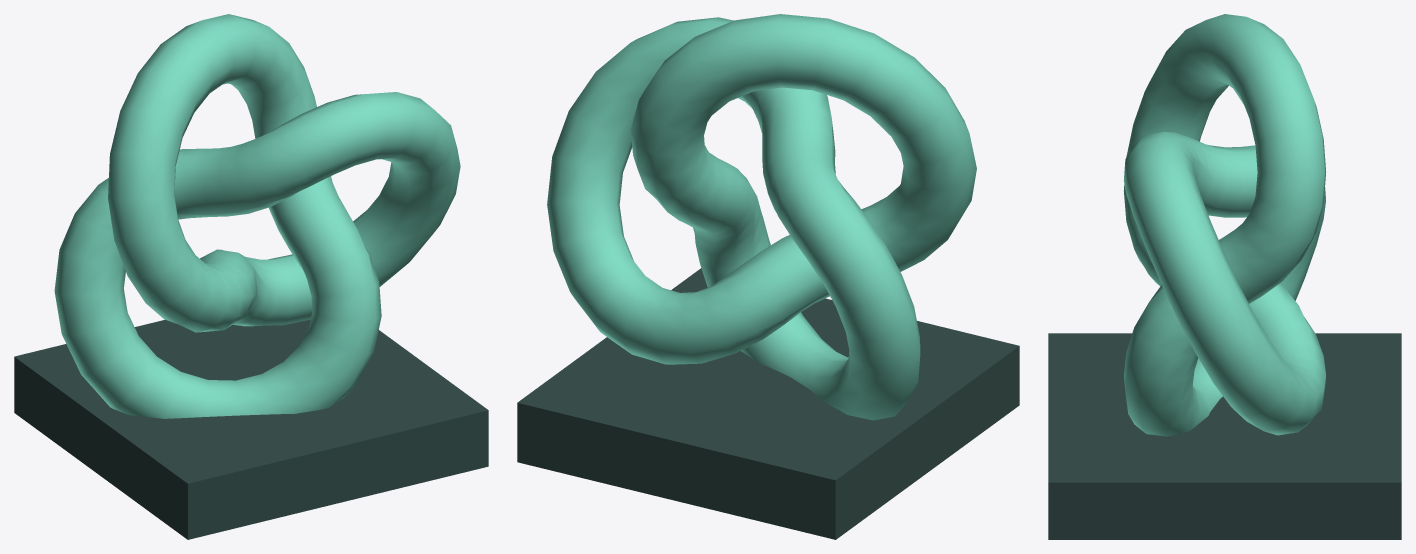
The model's file is object-study.glb.
The picture shows the model from 3 angles, left to right: view 1: azimuth 30°, elevation 25°; view 2: azimuth 150°, elevation 25°; view 3: azimuth 270°, elevation 25°; orthographic projection. The views are drawn at different scales.
Parts seen in each view (by area): view 1: Sculpture, Pedestal; view 2: Sculpture, Pedestal; view 3: Sculpture, Pedestal.
Boxes of the visible parts, x1,y1,x2,y2 form: Sculpture: (54, 14, 460, 418); Pedestal: (14, 319, 488, 539); Sculpture: (547, 14, 976, 420); Pedestal: (517, 268, 1019, 539); Sculpture: (1123, 14, 1325, 436); Pedestal: (1048, 333, 1401, 539).
Size of the model in its own units: 1.69 by 1.83 by 1.4.
